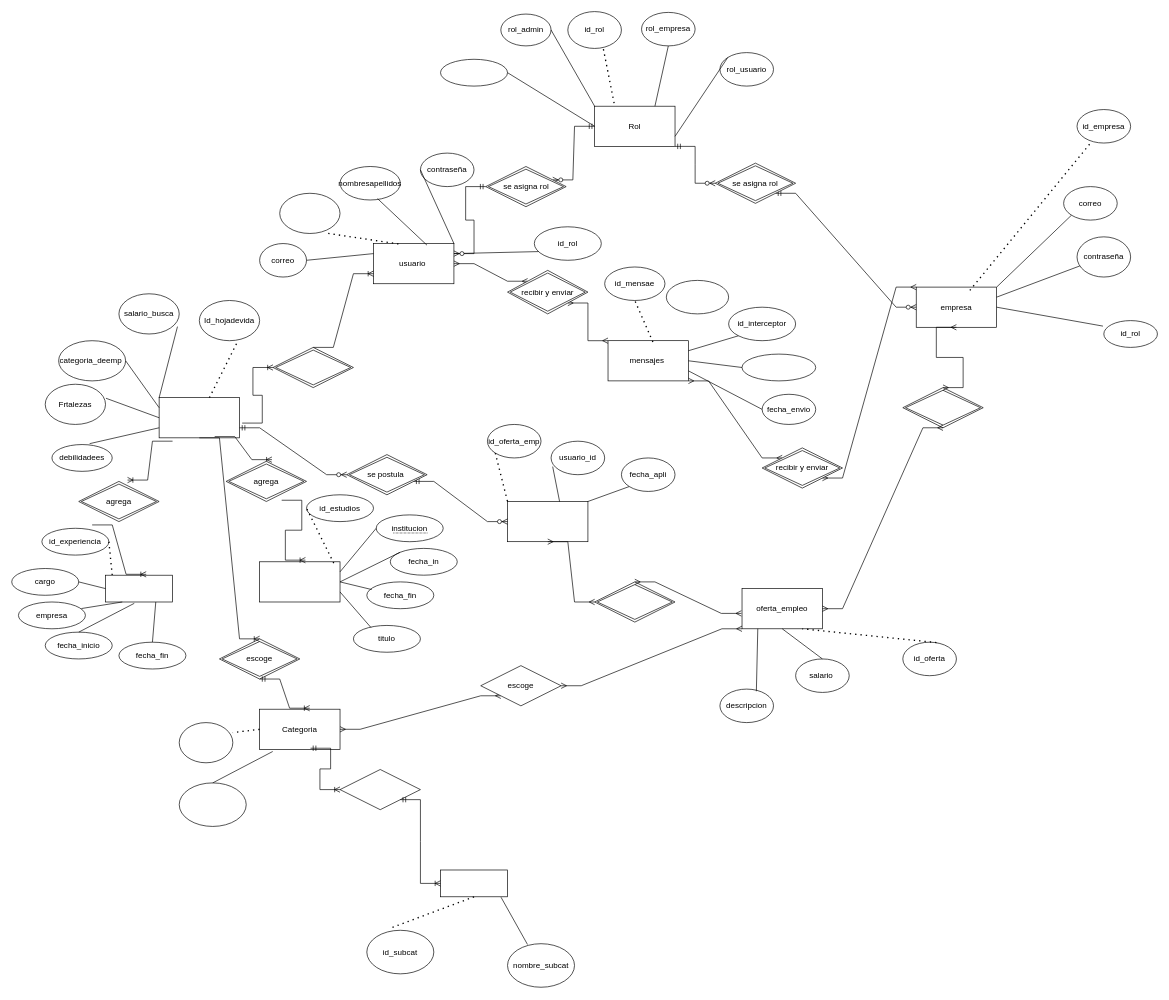
Image size: 1169x1000. Some labels were removed from this diagram. The centre of each missing label's shape, as x and y in pixels:
apli_empleo: point 547,521
aplican usuarios: point 634,601
busca: point 379,789
contenido: point 778,367
crea: point 942,407
experiencia_laboral: point 139,588
hojas de vida: point 199,417
id_categopria: point 206,742
id_receptor: point 697,297
Id_usuario: point 309,213
nombre_categoria: point 212,804
ootros_estudios: point 299,581
redacta: point 312,367
rol_empleado: point 474,72
sub_categoria: point 474,883
